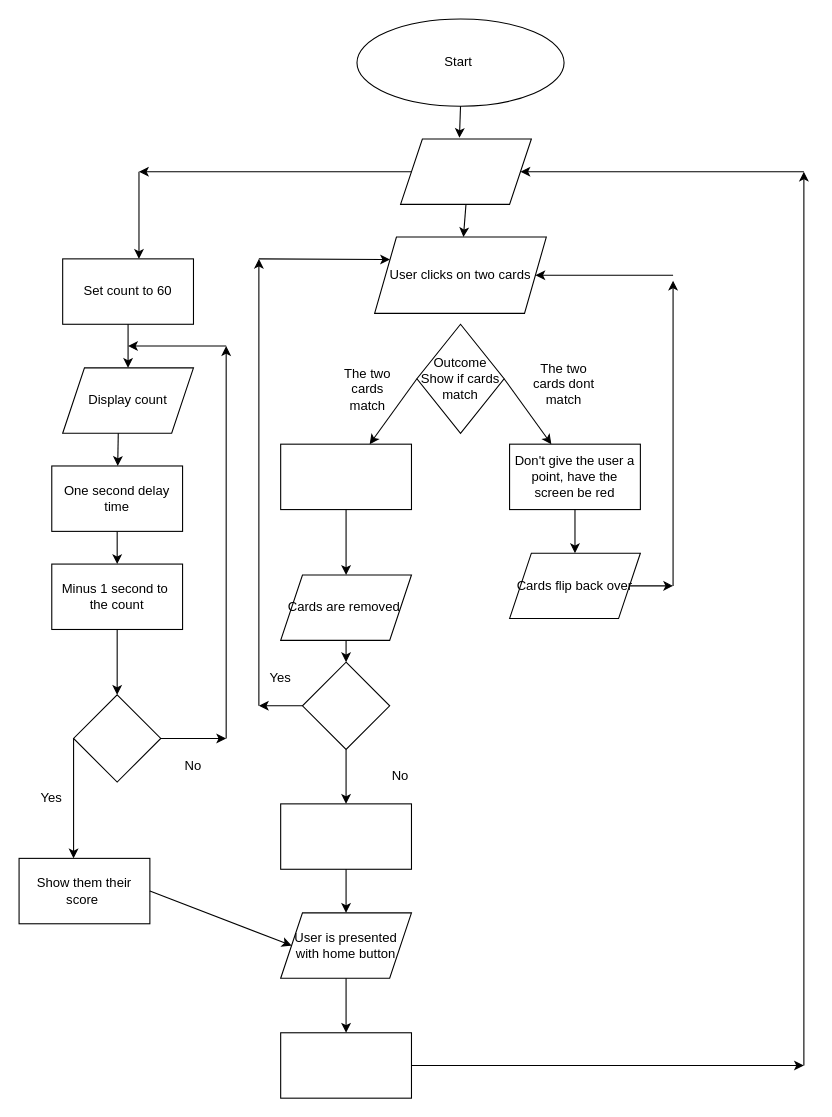
Image size: 832x1117. Some labels were removed from this diagram. Here are the shapes that lost their labels. From the top down, the centre of each, then its label:
At point 465,171: "User is on the home page and is presented with a start button".
At point 345,476: "Give the user a point, have the screen be green".
At point 345,705: "If cards are still there".
At point 116,738: "Count=0?".
At point 345,836: "Show them their score and how much time they had left if they had any time left".
At point 345,1065: "User is brought back to the home page".
